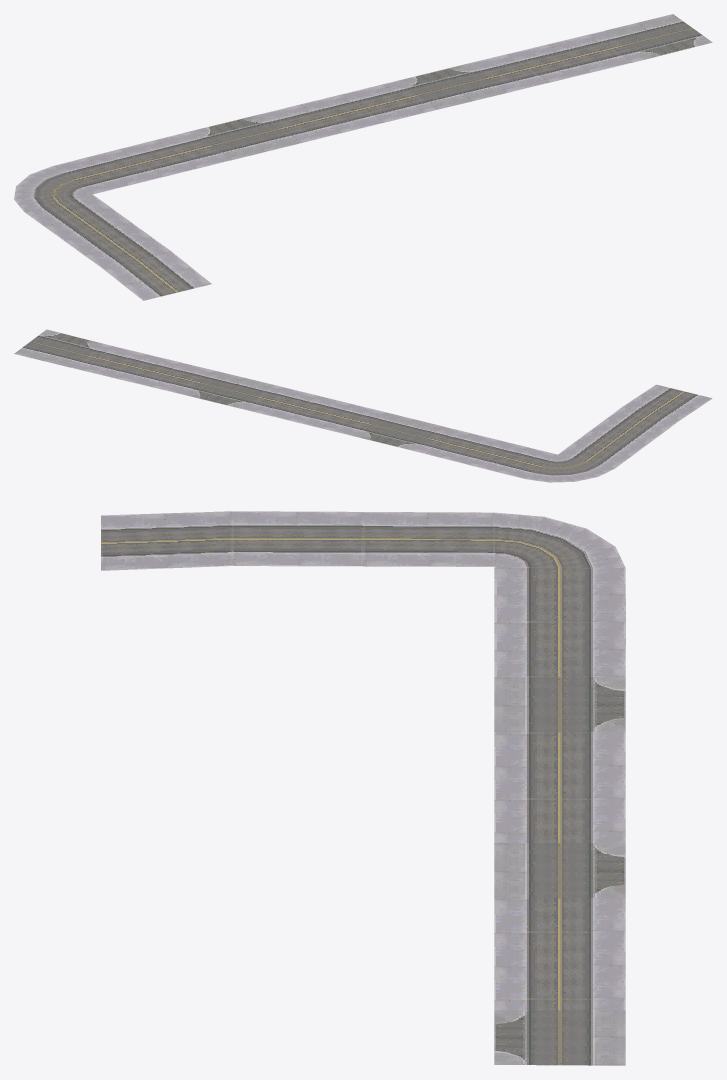
Rendered from lodaseroad003.obj.
3 renders of one model, top to bottom at view 1: azimuth 30°, elevation 25°; view 2: azimuth 150°, elevation 25°; view 3: azimuth 270°, elevation 25°, orthographic. The views are drawn at different scales.
Parts seen in each view (by area): view 1: lodasEroad003; view 2: lodasEroad003; view 3: lodasEroad003.
Part boxes in pixels (<box>): lodasEroad003: <box>14,14,712,300</box>; lodasEroad003: <box>14,329,712,482</box>; lodasEroad003: <box>101,511,625,1065</box>.
Size of the model in its own units: 200 by 0.8091 by 80.06.
Materials: 2 (2 with a texture image).
